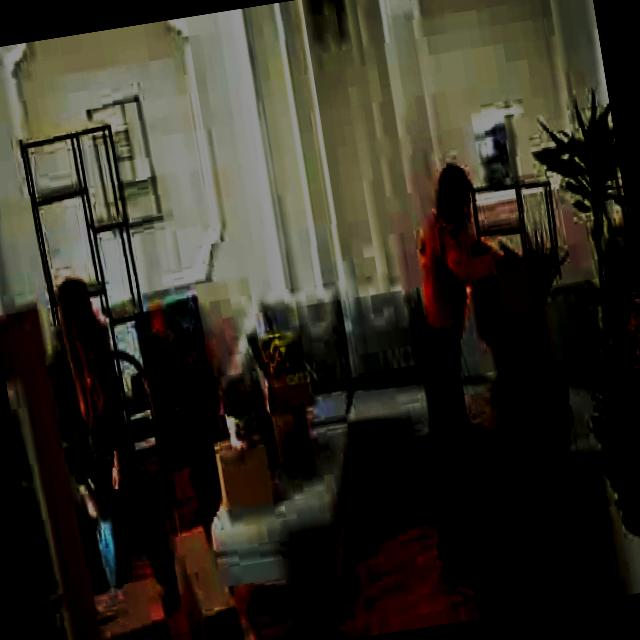Box: (477, 428, 591, 610), (172, 524, 247, 640), (476, 263, 556, 351), (492, 348, 563, 430), (212, 432, 281, 516), (96, 569, 165, 640), (267, 379, 318, 458)
